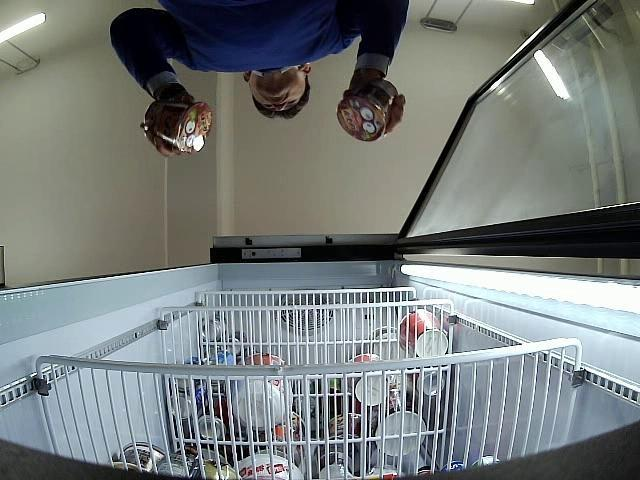06_nuguri_S: (336, 79, 398, 142), (144, 100, 212, 155)
